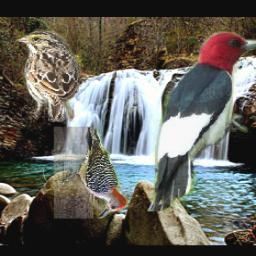Sparrow: (13, 29, 80, 122)
Woodpecker: (145, 31, 256, 212), (54, 128, 133, 219)
